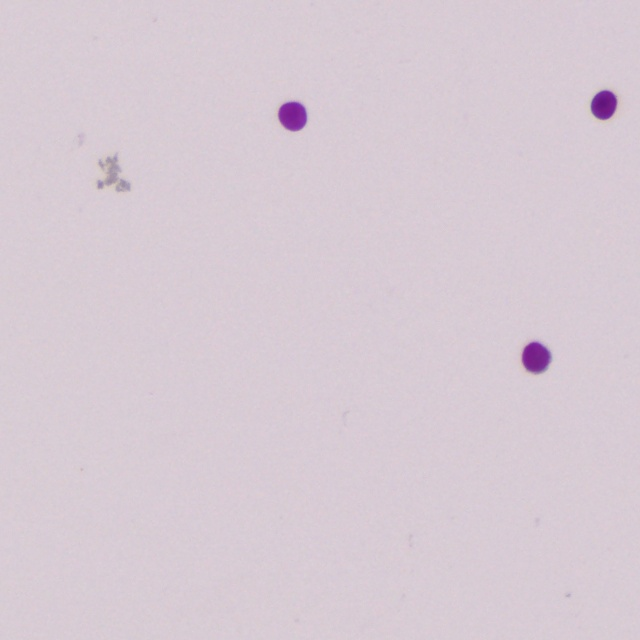viable: (523, 342, 550, 372), (279, 102, 306, 131), (592, 91, 616, 119)
